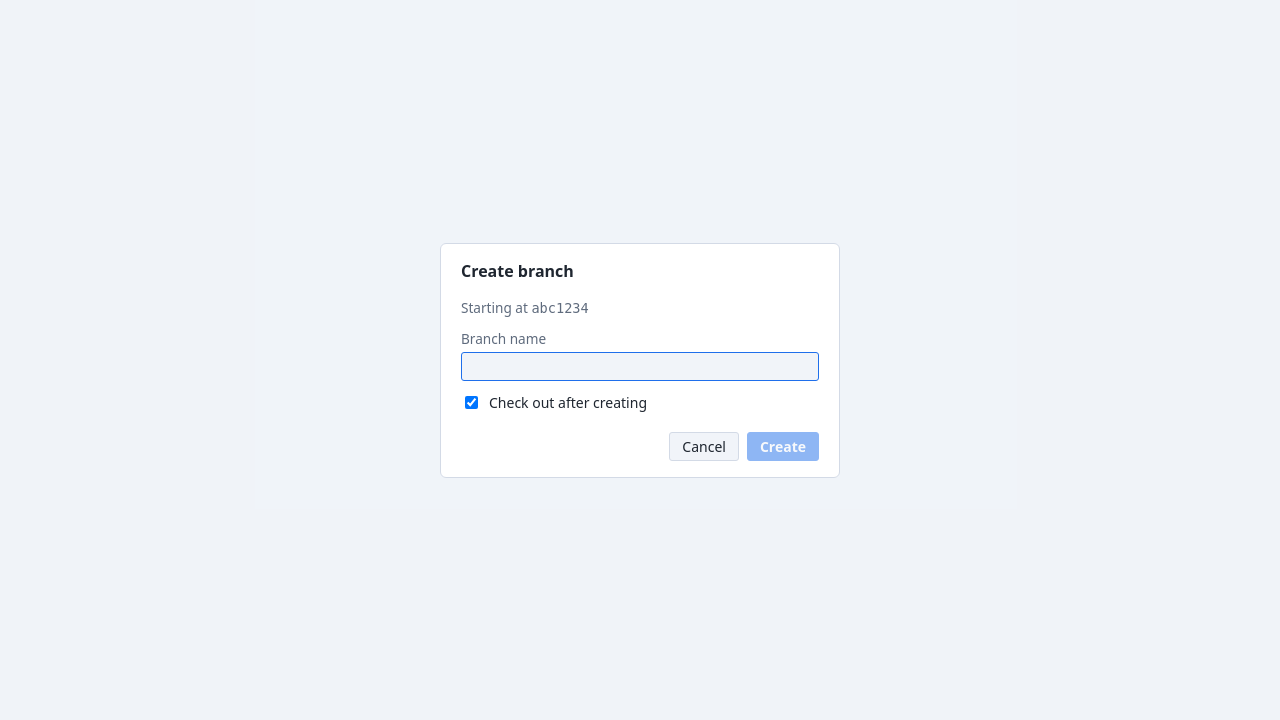
Test: CreateBranchDialog › autofocuses the name input and disables Create while invalid
Expected: the button "Create" is disabled, x1=747 y1=432 x2=819 y2=460
In the field: (640, 366) x1=461 y1=352 x2=819 y2=380, type "bad name"
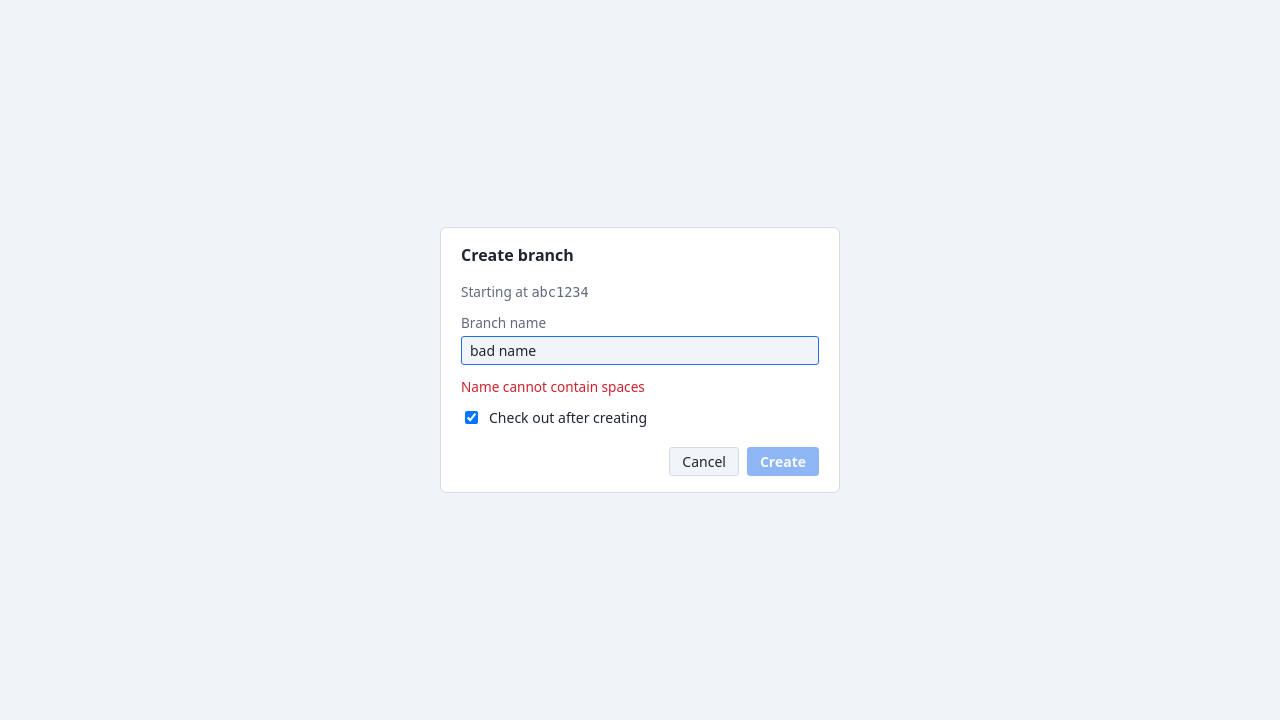
Expected: the button "Create" is disabled, x1=747 y1=447 x2=819 y2=476
Result: the message shows "spaces" at x1=461 y1=377 x2=645 y2=396
